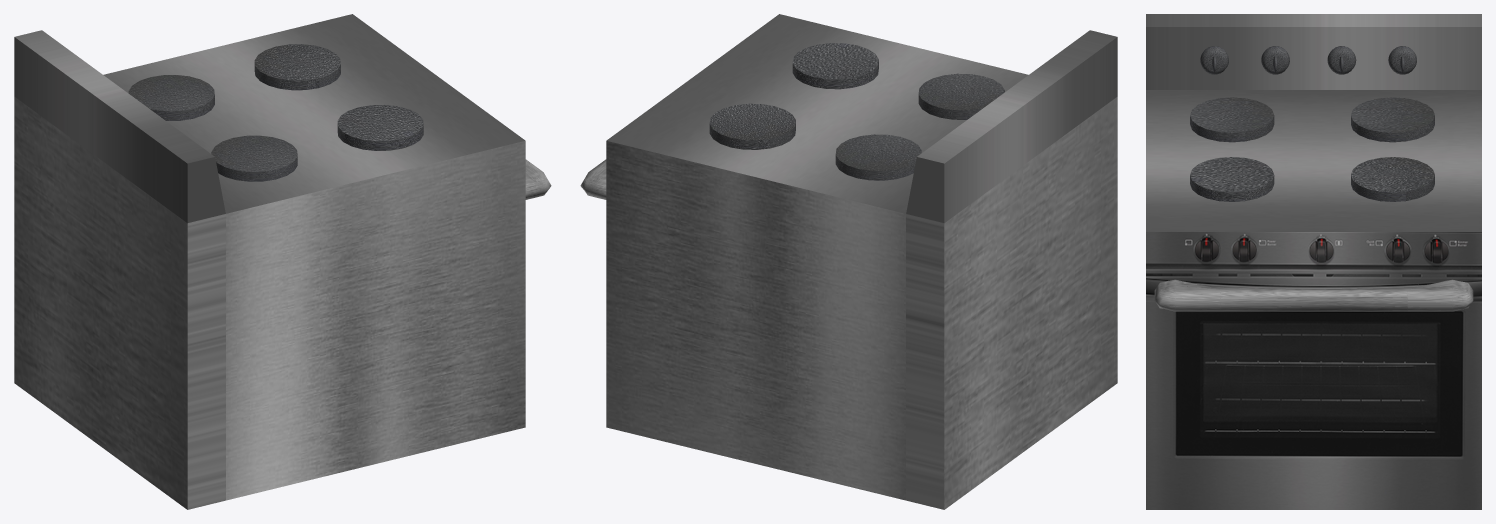
File: stove.fbx
3 renders of one model, left to right at view 1: azimuth 30°, elevation 25°; view 2: azimuth 150°, elevation 25°; view 3: azimuth 270°, elevation 25°, orthographic. The views are drawn at different scales.
Visible parts, largest first — view 1: pCube1, pasted__pCylinder1 (×2), pasted__pasted__pCylinder1, pCylinder1, pCube4; view 2: pCube1, pasted__pCylinder1 (×2), pasted__pasted__pCylinder1, pCylinder1, pCube4; view 3: pCube1, pCube4, pasted__pCylinder1 (×2), pCylinder1, pasted__pasted__pCylinder1, pasted__pasted__pCube3.
Part boxes in pixels (x1,y1,x2,y2): pCube1: (14,14,525,509); pasted__pCylinder1 (×2): (128,75,423,150); pasted__pasted__pCylinder1: (254,44,340,90); pCylinder1: (211,135,297,181); pCube4: (525,159,551,199); pCube1: (606,14,1117,509); pasted__pCylinder1 (×2): (792,43,921,180); pasted__pasted__pCylinder1: (709,103,795,149); pCylinder1: (918,73,1004,119); pCube4: (580,159,606,199); pCube1: (1146,14,1481,509); pCube4: (1154,279,1473,311); pasted__pCylinder1 (×2): (1190,97,1434,201); pCylinder1: (1190,97,1274,142); pasted__pasted__pCylinder1: (1351,157,1434,201); pasted__pasted__pCube3: (1200,46,1416,74).
Size of the model in its own units: 4.93 by 4.37 by 3.96.
